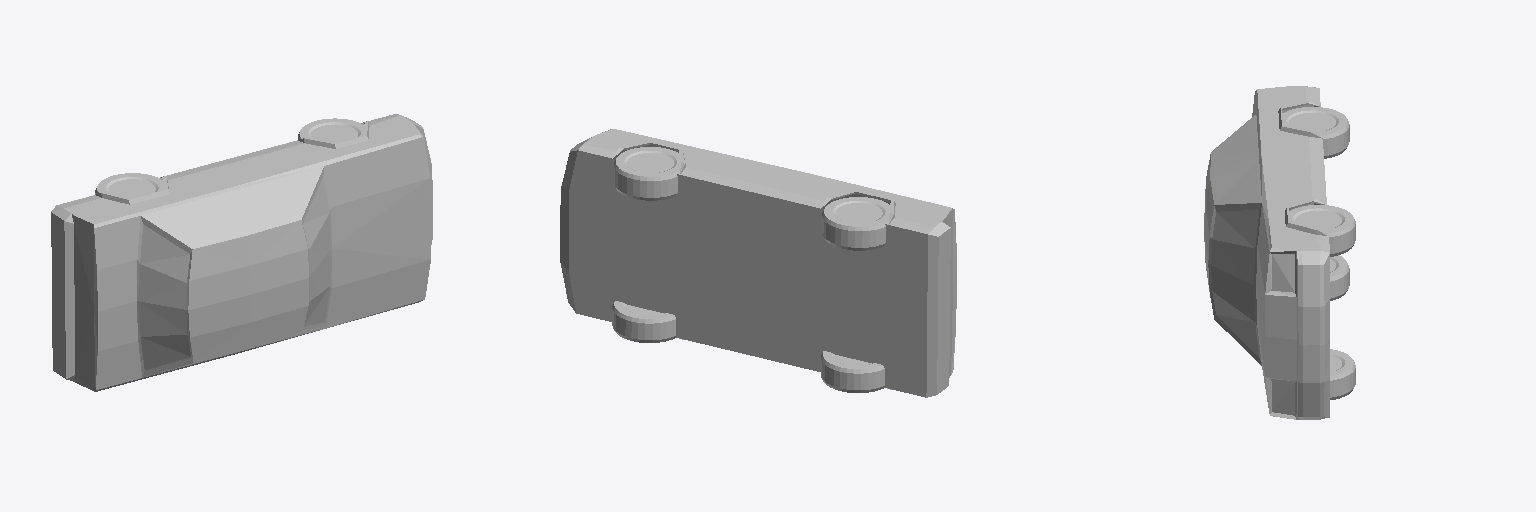
Rendered from car.obj.
3 renders of one model, left to right at view 1: azimuth 30°, elevation 25°; view 2: azimuth 150°, elevation 25°; view 3: azimuth 270°, elevation 25°, orthographic.
Visible parts, largest first — view 1: Car_Cube; view 2: Car_Cube; view 3: Car_Cube.
Boxes of the visible parts, x1=… form: Car_Cube: x1=51, y1=114, x2=432, y2=391; Car_Cube: x1=560, y1=129, x2=956, y2=397; Car_Cube: x1=1204, y1=86, x2=1355, y2=419.
Bounding box in the file's own units: 4.68 × 2.13 × 1.64.